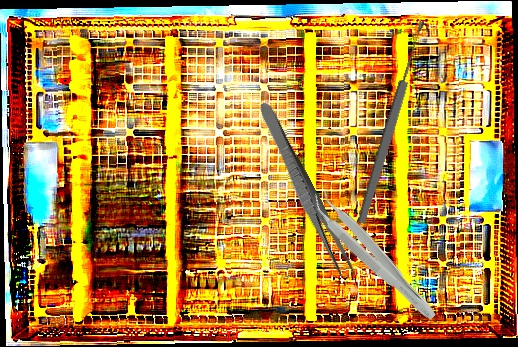Dressing Forceps: (252, 100, 358, 282)
Surgical Spoon: (355, 20, 429, 225)
Tissue Forceps: (304, 184, 446, 326)
